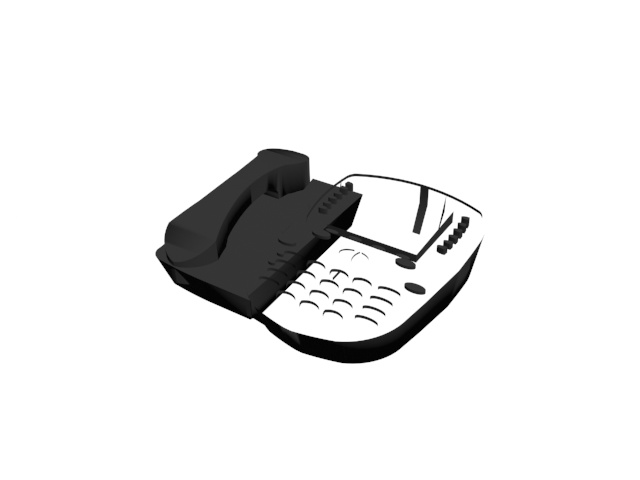phone: (153, 145, 488, 368)
